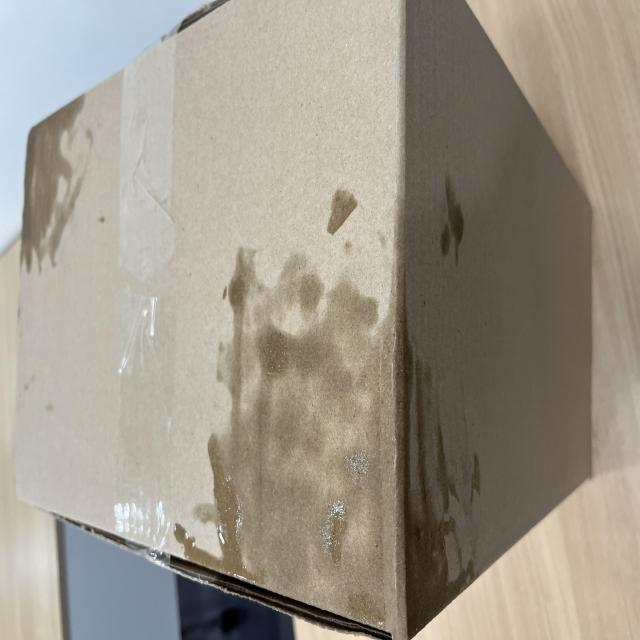wet: (23, 260, 285, 622), (284, 23, 412, 127)
